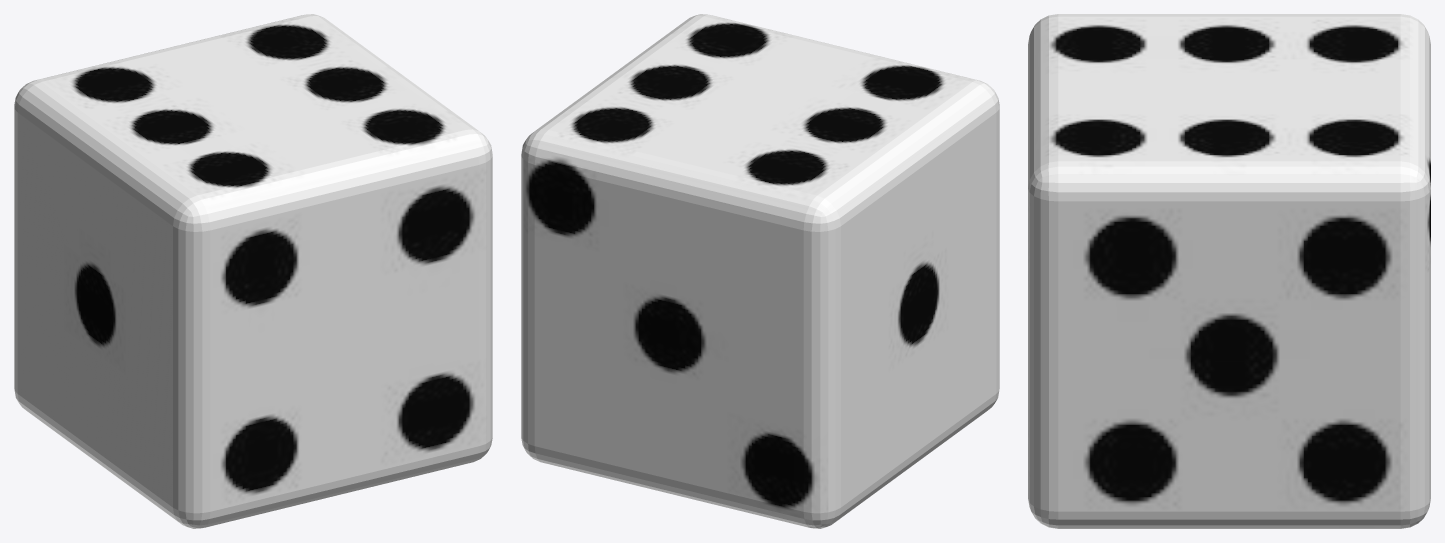
The model's file is Trabajo_6_Dado_GHE.fbx.
3 renders of one model, left to right at view 1: azimuth 30°, elevation 25°; view 2: azimuth 150°, elevation 25°; view 3: azimuth 270°, elevation 25°, orthographic. The views are drawn at different scales.
Parts seen in each view (by area): view 1: Dado; view 2: Dado; view 3: Dado.
Part boxes in pixels (bbox=[...]): Dado: bbox=[14, 14, 492, 528]; Dado: bbox=[521, 14, 999, 528]; Dado: bbox=[1028, 14, 1430, 528].
Bounding box in the file's own units: 200 × 200 × 200.
1 material, 1 textured.
